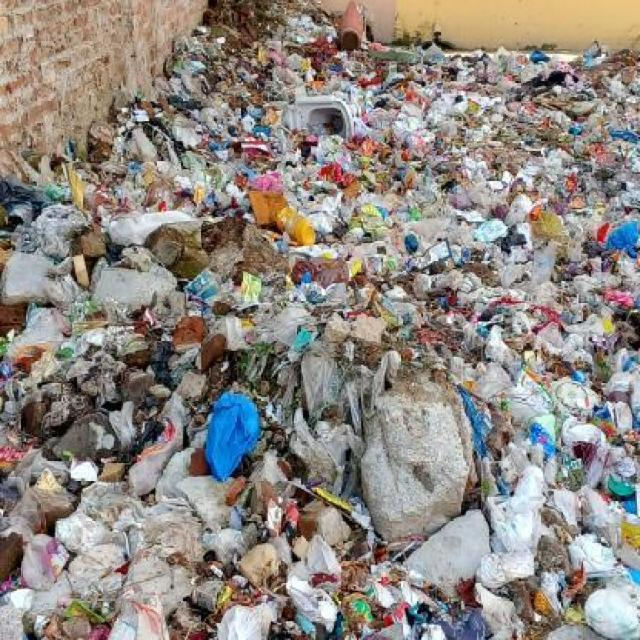garbage: (211, 1, 640, 640), (0, 123, 225, 639), (89, 23, 236, 129)
